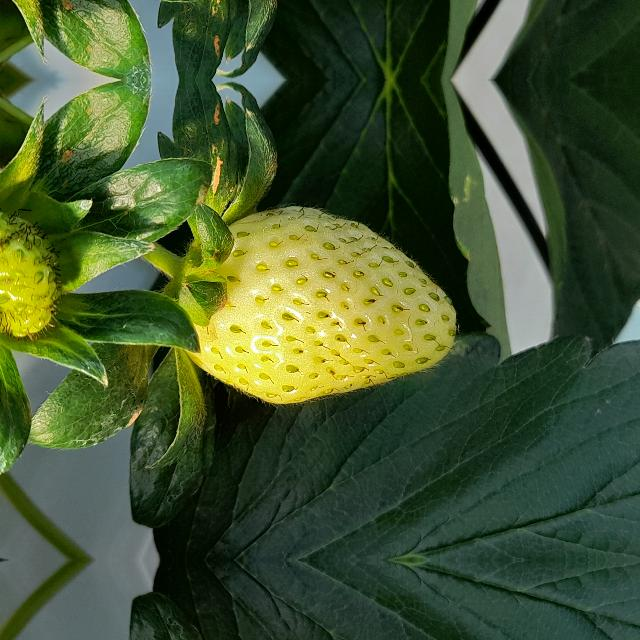Health_25: (179, 202, 459, 408), (0, 206, 60, 338)
